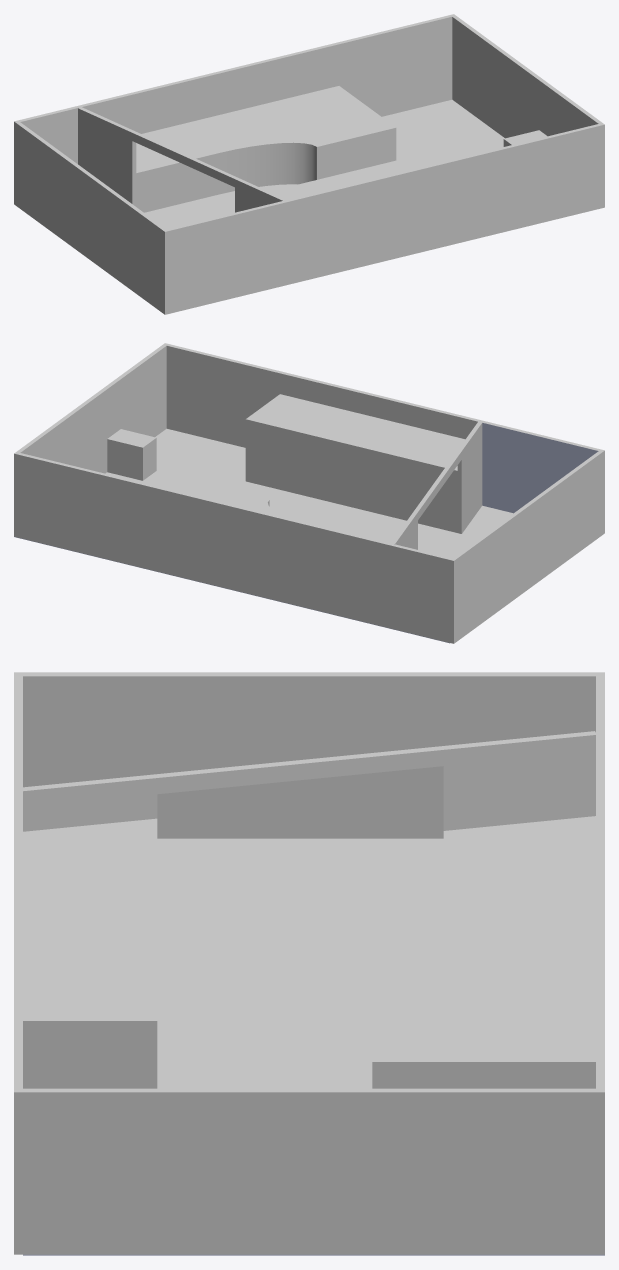
Rendered from sim_env.DAE.
3 renders of one model, top to bottom at view 1: azimuth 30°, elevation 25°; view 2: azimuth 150°, elevation 25°; view 3: azimuth 270°, elevation 25°, orthographic. The views are drawn at different scales.
Parts seen in each view (by area): view 1: stitch_result_stitchFBXASC032all-Pivot, stitch_result_stitchFBXASC032all_ncl1_1-Pivot; view 2: stitch_result_stitchFBXASC032all-Pivot, stitch_result_stitchFBXASC032all_ncl1_1-Pivot; view 3: stitch_result_stitchFBXASC032all-Pivot, stitch_result_stitchFBXASC032all_ncl1_1-Pivot.
Boxes of the visible parts, x1,y1,x2,y2 form: stitch_result_stitchFBXASC032all-Pivot: (14, 14, 604, 314); stitch_result_stitchFBXASC032all_ncl1_1-Pivot: (144, 99, 504, 229); stitch_result_stitchFBXASC032all-Pivot: (14, 343, 604, 643); stitch_result_stitchFBXASC032all_ncl1_1-Pivot: (14, 428, 513, 643); stitch_result_stitchFBXASC032all-Pivot: (14, 672, 604, 1254); stitch_result_stitchFBXASC032all_ncl1_1-Pivot: (23, 838, 604, 1255).
Size of the model in its own units: 11.1 by 6.6 by 2.01.
